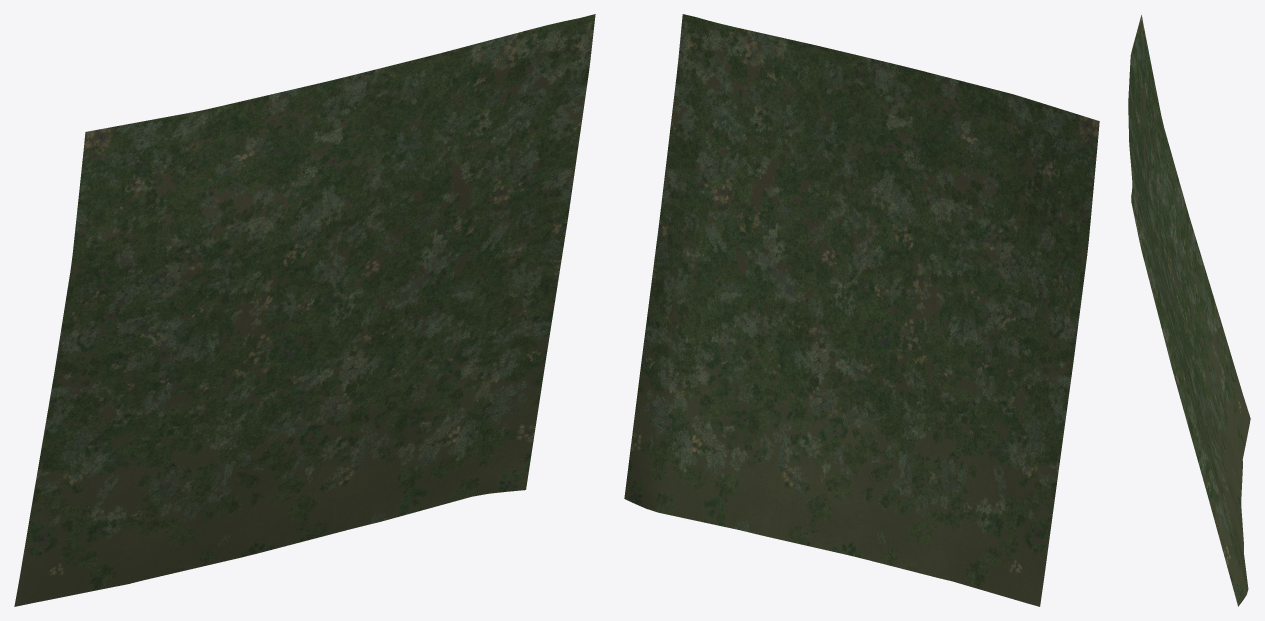
File: terrain_near_09_02.obj
The picture shows the model from 3 angles, left to right: view 1: azimuth 30°, elevation 25°; view 2: azimuth 150°, elevation 25°; view 3: azimuth 270°, elevation 25°; orthographic projection. The views are drawn at different scales.
Parts seen in each view (by area): view 1: terrain_near_09_02; view 2: terrain_near_09_02; view 3: terrain_near_09_02.
Part boxes in pixels (bbox=[...]): terrain_near_09_02: bbox=[14, 14, 595, 606]; terrain_near_09_02: bbox=[624, 14, 1099, 606]; terrain_near_09_02: bbox=[1128, 15, 1250, 606].
Bounding box in the file's own units: 64 × 64 × 17.55.
1 material, 1 textured.
